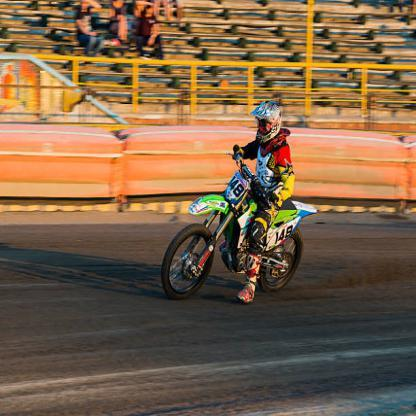Motorcycle: (153, 165, 313, 299)
